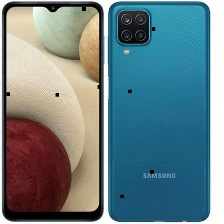phone: (104, 0, 214, 222), (0, 0, 104, 223)
